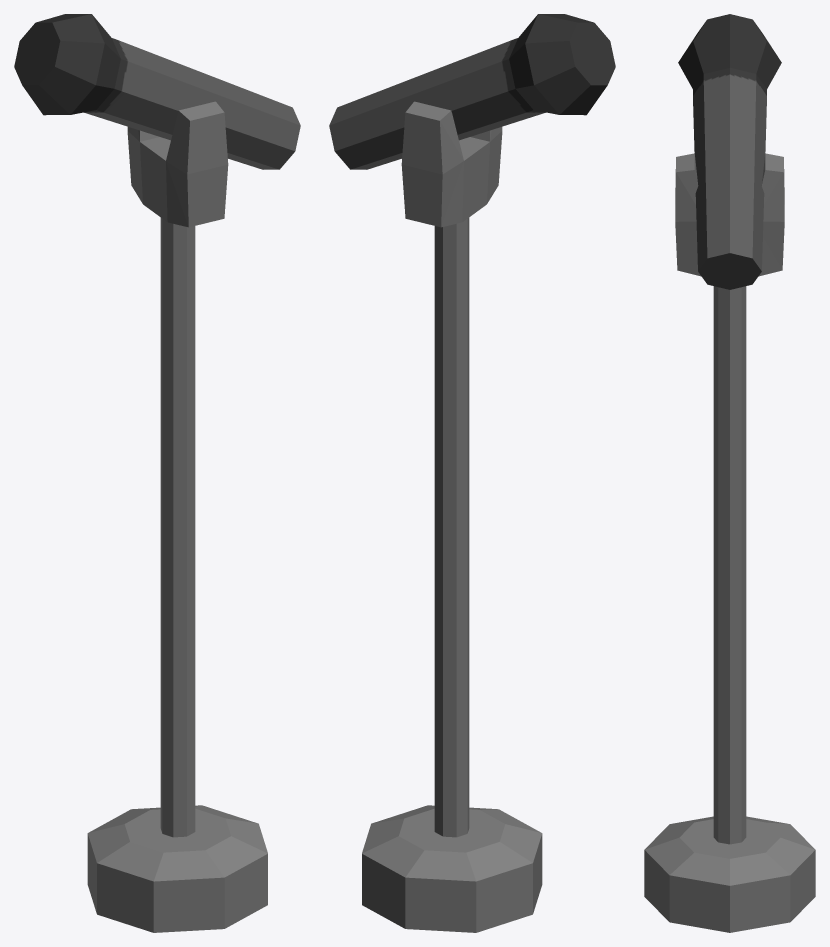
The model's file is Microphone.fbx.
3 views of the same model, side by side, from view 1: azimuth 30°, elevation 25°; view 2: azimuth 150°, elevation 25°; view 3: azimuth 270°, elevation 25° (orthographic). The views are drawn at different scales.
Parts seen in each view (by area): view 1: Cylinder.001; view 2: Cylinder.001; view 3: Cylinder.001.
Part boxes in pixels (<box>): Cylinder.001: <box>14,14,300,932</box>; Cylinder.001: <box>329,14,615,932</box>; Cylinder.001: <box>644,14,815,932</box>.
Size of the model in its own units: 30.48 by 97.13 by 18.22.
